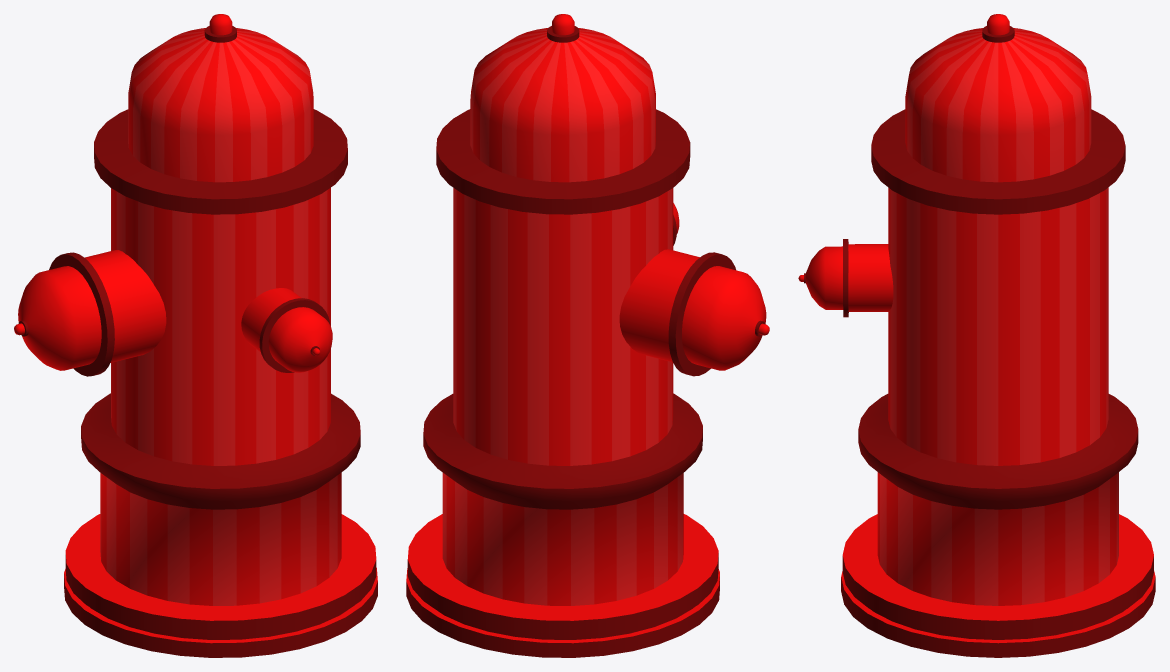
Rendered from Hygrant.fbx.
3 views of the same model, side by side, from view 1: azimuth 30°, elevation 25°; view 2: azimuth 150°, elevation 25°; view 3: azimuth 270°, elevation 25° (orthographic).
Parts seen in each view (by area): view 1: Hygrant; view 2: Hygrant; view 3: Hygrant.
Part boxes in pixels (bbox=[...]): Hygrant: bbox=[14, 14, 377, 657]; Hygrant: bbox=[406, 14, 769, 657]; Hygrant: bbox=[798, 14, 1155, 657].
Bounding box in the file's own units: 44.56 × 71.83 × 40.28.
